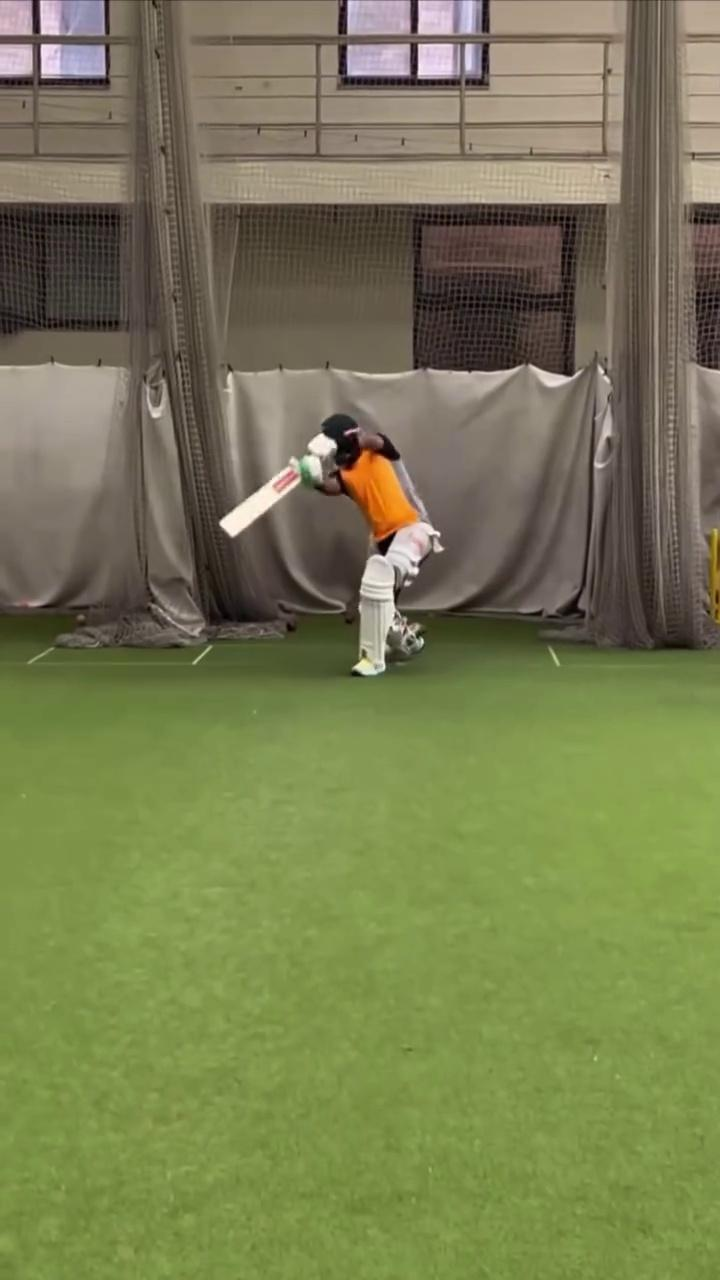bat: (217, 462, 304, 540)
